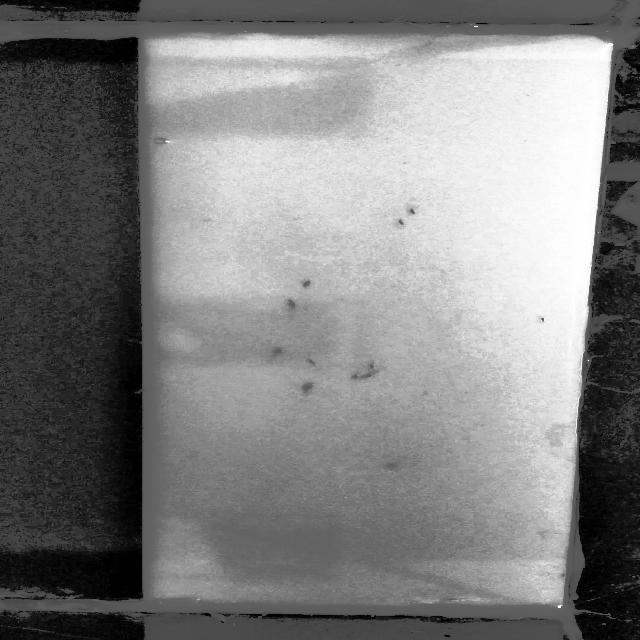shrimp: (274, 295, 304, 312), (293, 380, 319, 396), (300, 353, 323, 371), (390, 216, 414, 231), (294, 278, 320, 289), (266, 343, 286, 357), (358, 360, 381, 371), (404, 203, 419, 217), (534, 314, 550, 326), (349, 371, 361, 382), (362, 372, 377, 380)
